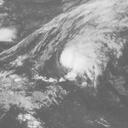cyclone: (59, 36, 108, 86)
